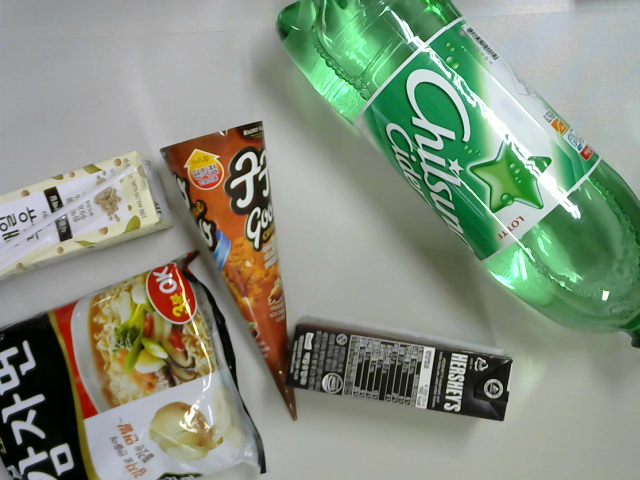99.89_Soymilk: (1, 145, 179, 298)
Chilseong_Cider_1.5L: (270, 1, 637, 358)
GooGoo_Cone_CVS: (161, 113, 309, 442)
Hush_Choco_Drink: (279, 314, 522, 427)
Potato: (1, 244, 275, 478)
